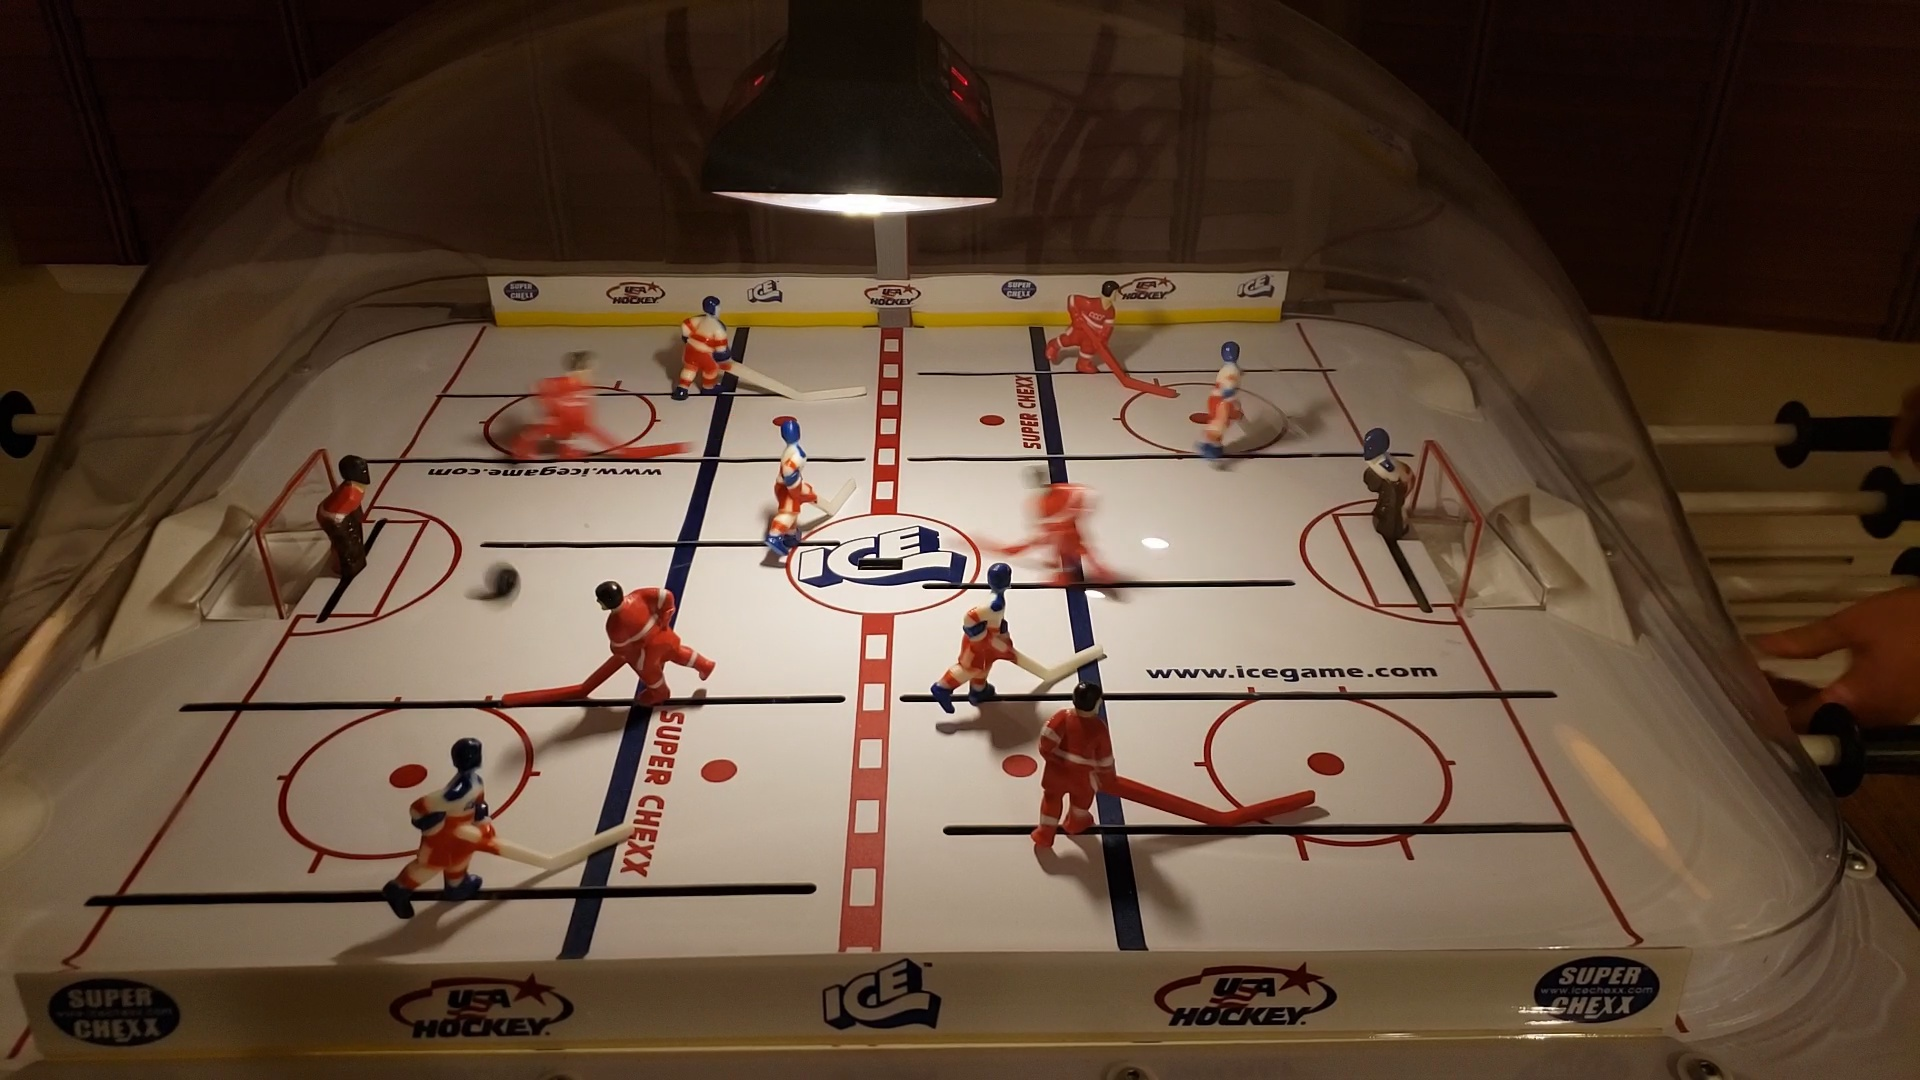puck: (481, 560, 522, 599)
